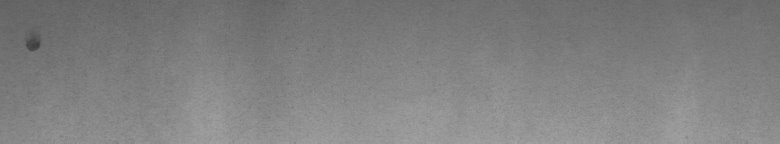fi: (21, 36, 45, 59)
